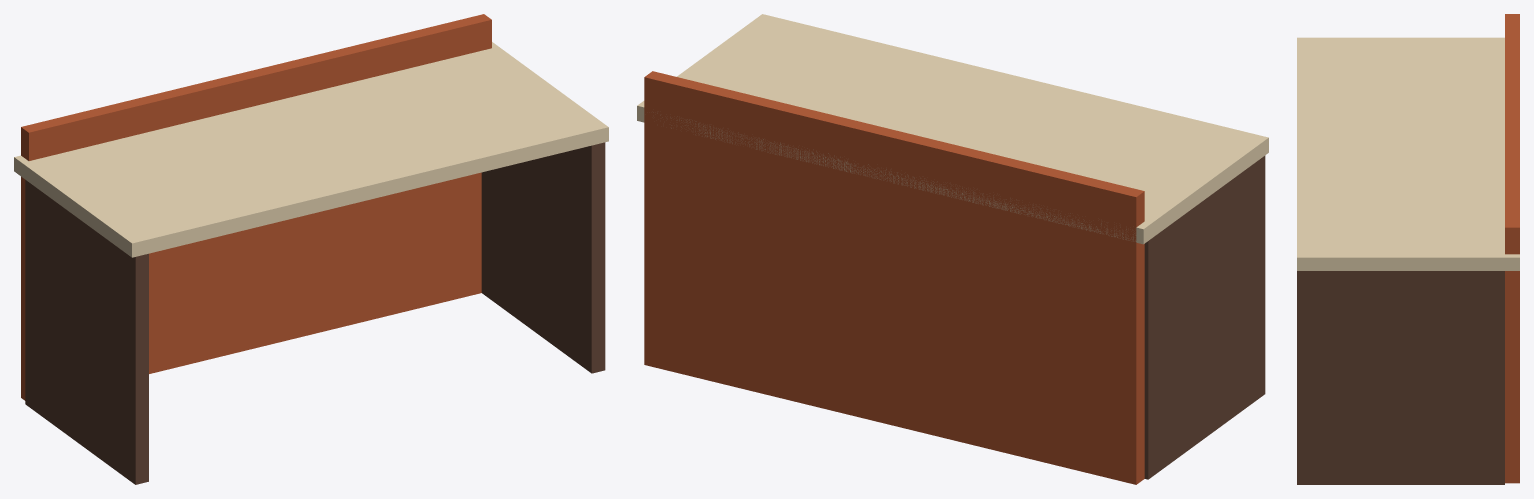
Rendered from burger-shop.glb.
3 views of the same model, side by side, from view 1: azimuth 30°, elevation 25°; view 2: azimuth 150°, elevation 25°; view 3: azimuth 270°, elevation 25° (orthographic). The views are drawn at different scales.
Visible parts, largest first — view 1: Canopy, Feature wall, Column, Column.001; view 2: Feature wall, Canopy, Column; view 3: Canopy, Column.001, Feature wall.
Boxes of the visible parts, x1,y1,x2,y2 form: Canopy: (14,42,608,257); Feature wall: (21,14,491,400); Column: (25,180,148,484); Column.001: (481,142,605,373); Feature wall: (644,71,1144,484); Canopy: (637,14,1268,244); Column: (1144,155,1265,479); Canopy: (1297,37,1519,270); Column.001: (1297,271,1504,484); Feature wall: (1505,14,1519,483).
Size of the model in its own units: 7 by 3.8 by 3.
